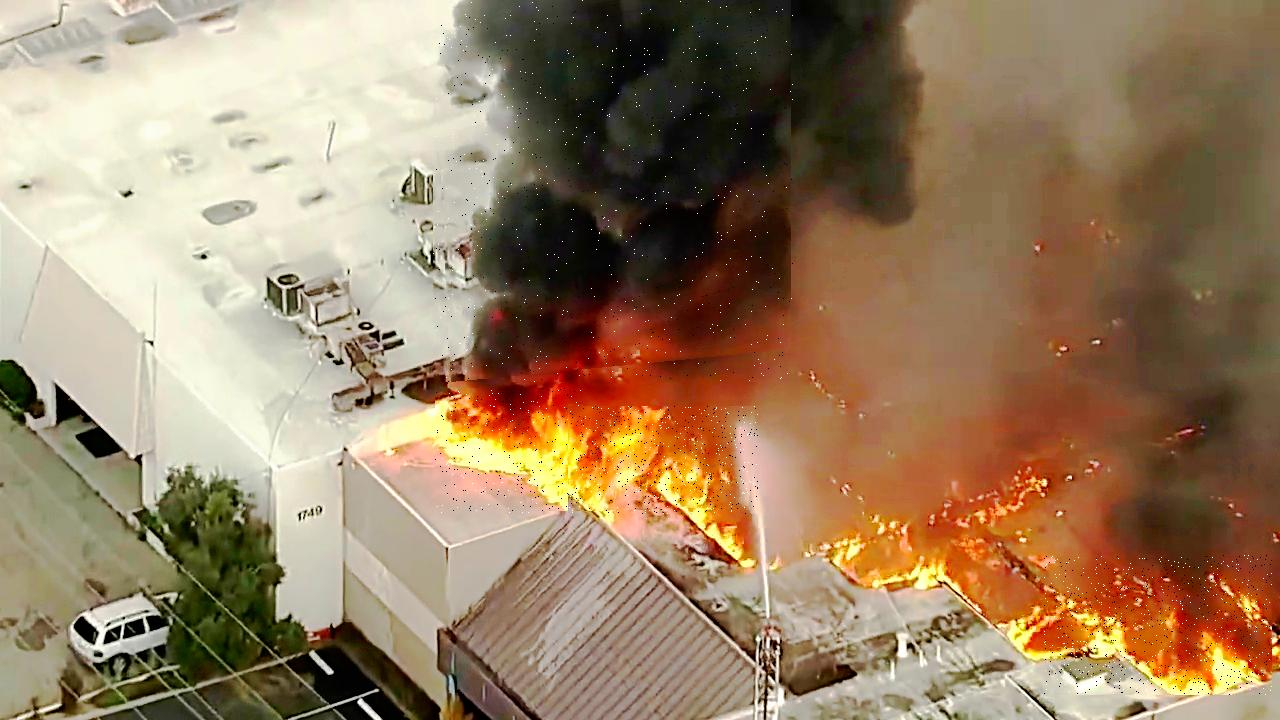fire: (1044, 555, 1272, 695), (569, 407, 759, 515), (435, 389, 583, 514)
smoke: (434, 0, 794, 382)
